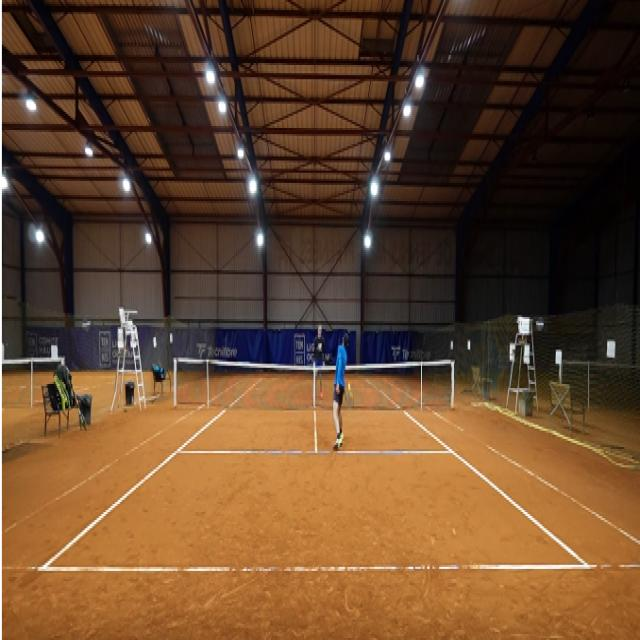ball: (347, 383, 351, 389)
